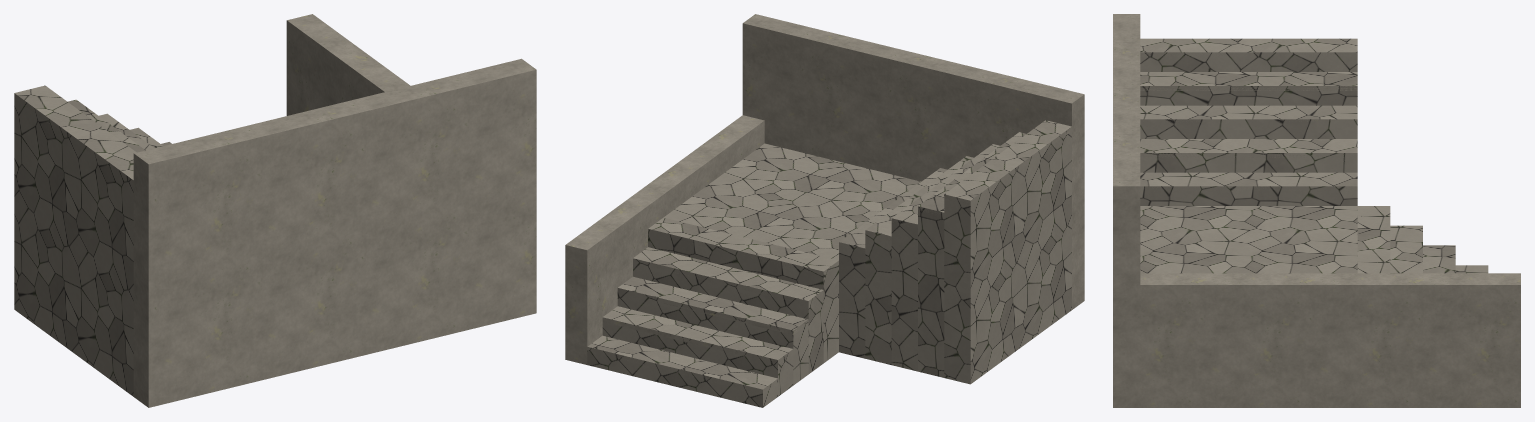
Rendered from HO_Prop_StoneStairs_Turning.fbx.
3 renders of one model, left to right at view 1: azimuth 30°, elevation 25°; view 2: azimuth 150°, elevation 25°; view 3: azimuth 270°, elevation 25°, orthographic. The views are drawn at different scales.
Parts seen in each view (by area): view 1: HO_Prop_StoneStairs_Turning__Stone_Granite, HO_Prop_StoneStairs_Turning__Stone_Fitted; view 2: HO_Prop_StoneStairs_Turning__Stone_Fitted, HO_Prop_StoneStairs_Turning__Stone_Granite; view 3: HO_Prop_StoneStairs_Turning__Stone_Granite, HO_Prop_StoneStairs_Turning__Stone_Fitted.
Boxes of the visible parts, left/top/right/bottom form: HO_Prop_StoneStairs_Turning__Stone_Granite: left=14, top=14, right=536, bottom=407; HO_Prop_StoneStairs_Turning__Stone_Fitted: left=14, top=85, right=171, bottom=396; HO_Prop_StoneStairs_Turning__Stone_Fitted: left=587, top=120, right=1071, bottom=407; HO_Prop_StoneStairs_Turning__Stone_Granite: left=565, top=14, right=1084, bottom=393; HO_Prop_StoneStairs_Turning__Stone_Granite: left=1113, top=14, right=1520, bottom=407; HO_Prop_StoneStairs_Turning__Stone_Fitted: left=1140, top=38, right=1488, bottom=273.
Bounding box in the file's own units: 15 × 9 × 15.
